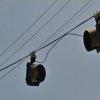Traffic light: (23, 49, 60, 89)
